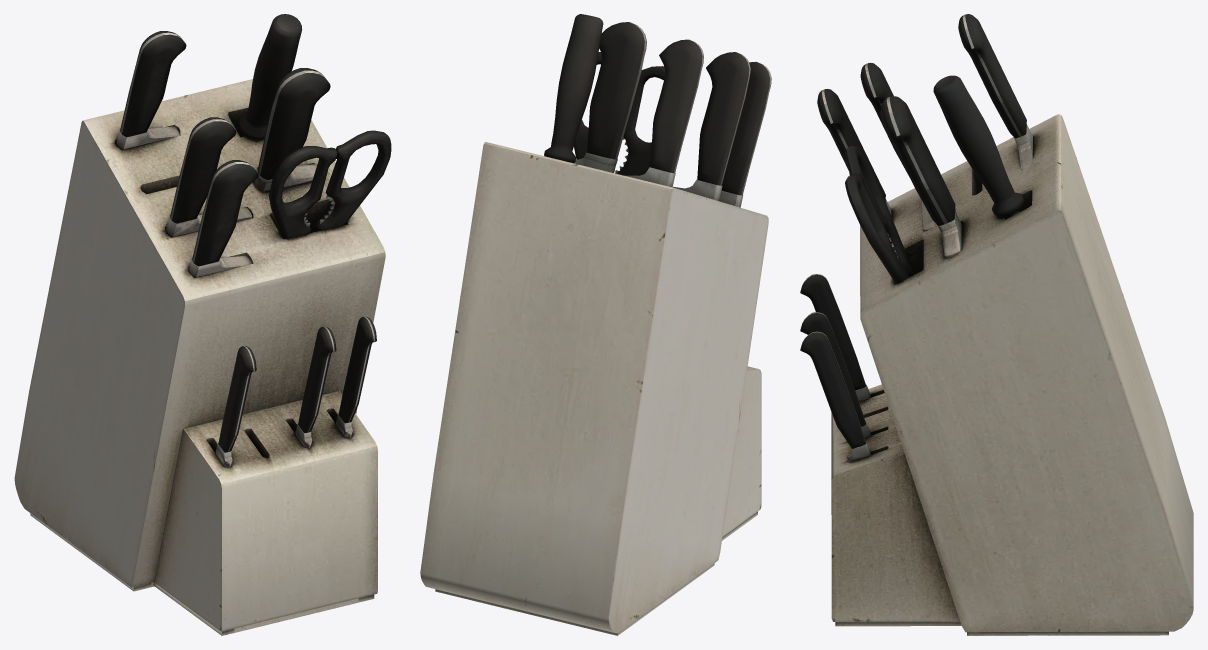
File: knife-set.glb
The picture shows the model from 3 angles, left to right: view 1: azimuth 30°, elevation 25°; view 2: azimuth 150°, elevation 25°; view 3: azimuth 270°, elevation 25°; orthographic projection. The views are drawn at different scales.
Visible parts, largest first — view 1: Material53_material_material, Material54_material_material, Material64_material_material, Material65_material_material; view 2: Material53_material_material, Material64_material_material, Material54_material_material, Material65_material_material; view 3: Material53_material_material, Material64_material_material, Material54_material_material, Material65_material_material.
Boxes of the visible parts, x1,y1,x2,y2 form: Material53_material_material: (14, 79, 385, 591); Material54_material_material: (154, 390, 377, 635); Material64_material_material: (120, 14, 391, 452); Material65_material_material: (115, 32, 375, 467); Material53_material_material: (420, 142, 768, 635); Material64_material_material: (544, 14, 771, 195); Material54_material_material: (722, 366, 761, 540); Material65_material_material: (574, 22, 771, 207); Material53_material_material: (860, 114, 1193, 635); Material64_material_material: (800, 14, 1026, 448); Material54_material_material: (831, 384, 961, 626); Material65_material_material: (800, 14, 1032, 461).
Size of the model in its own units: 0.1366 by 0.3481 by 0.2295.
4 materials, 4 textured.
